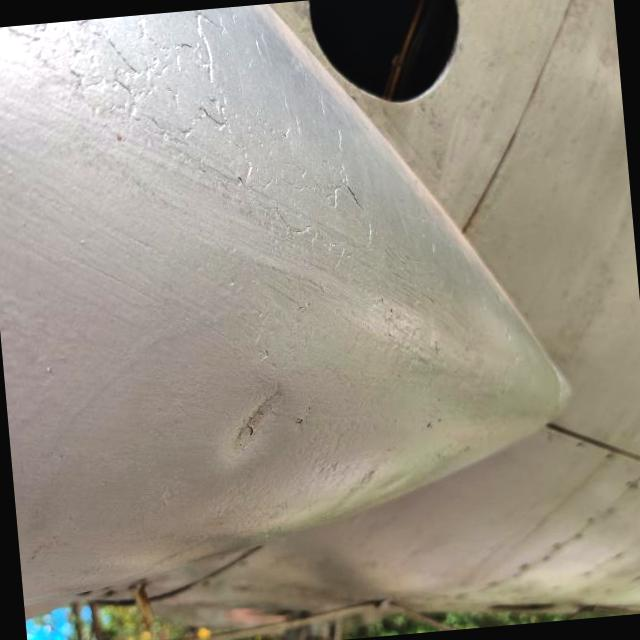dent: (193, 360, 313, 478)
